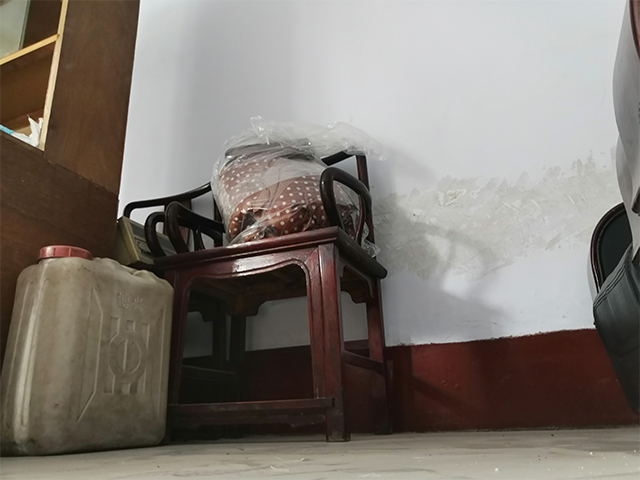stool: (118, 143, 399, 443)
